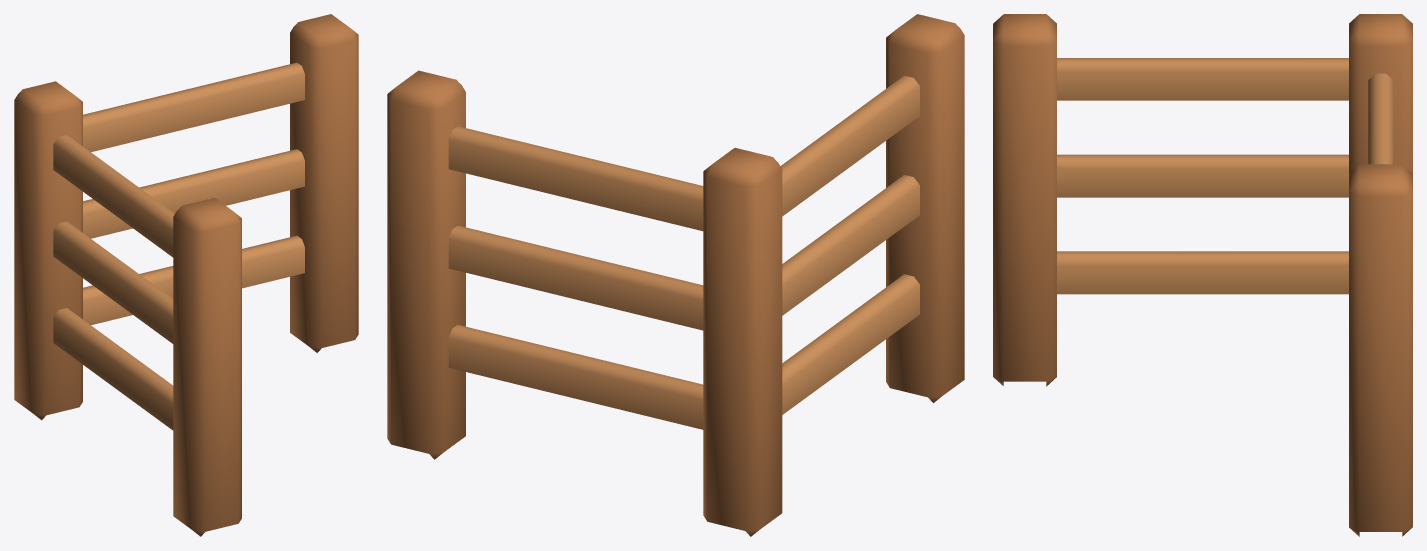
The model's file is fence_wood_corner.glb.
3 renders of one model, left to right at view 1: azimuth 30°, elevation 25°; view 2: azimuth 150°, elevation 25°; view 3: azimuth 270°, elevation 25°, orthographic. The views are drawn at different scales.
Visible parts, largest first — view 1: fence_wood_corner; view 2: fence_wood_corner; view 3: fence_wood_corner.
Part boxes in pixels (x1,y1,x2,y2): fence_wood_corner: [14, 14, 358, 536]; fence_wood_corner: [387, 14, 964, 536]; fence_wood_corner: [993, 14, 1412, 536].
Bounding box in the file's own units: 1.18 × 1.1 × 1.18.
1 material, 1 textured.
